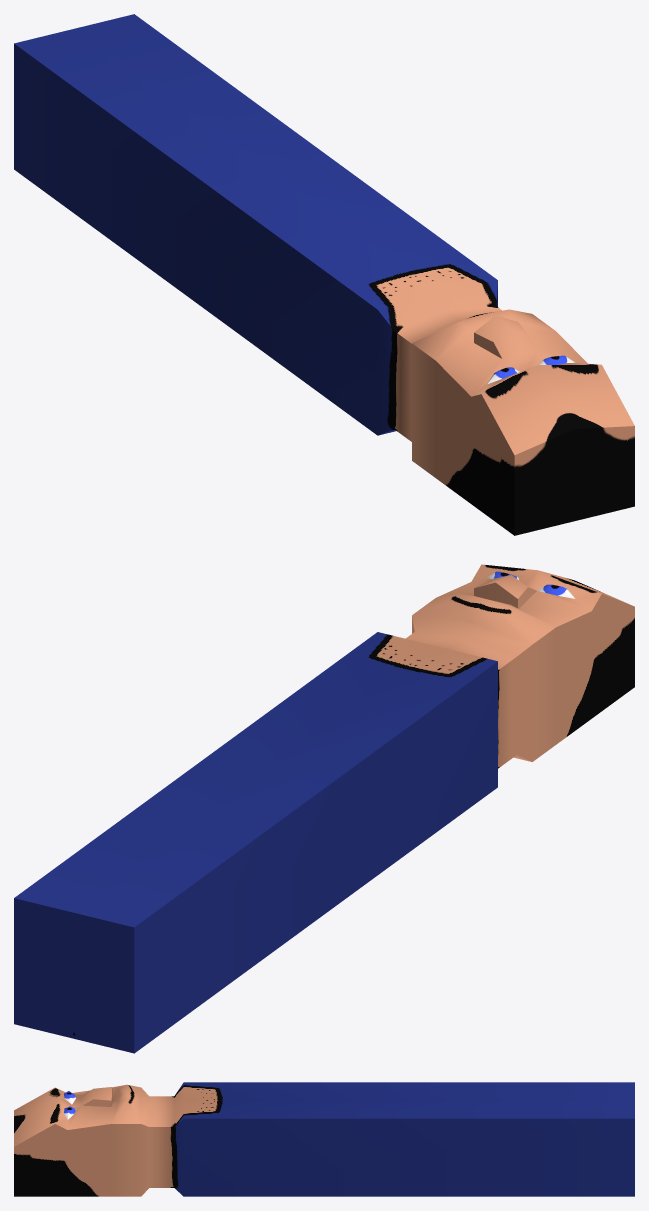
The model's file is character.glb.
The picture shows the model from 3 angles, top to bottom: view 1: azimuth 30°, elevation 25°; view 2: azimuth 150°, elevation 25°; view 3: azimuth 270°, elevation 25°; orthographic projection. The views are drawn at different scales.
Parts seen in each view (by area): view 1: Cube; view 2: Cube; view 3: Cube.
Part boxes in pixels (box(x1,y1,x2,y2)): Cube: box(14, 14, 634, 535); Cube: box(14, 564, 634, 1053); Cube: box(14, 1082, 634, 1196).
Bounding box in the file's own units: 0.25 × 0.2933 × 1.8.
Materials: 1 (1 with a texture image).
